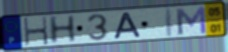3: (86, 13, 109, 42)
A: (112, 12, 143, 41)
H: (47, 14, 78, 46), (22, 15, 50, 48)
I: (164, 7, 175, 39)
M: (174, 5, 209, 36)
